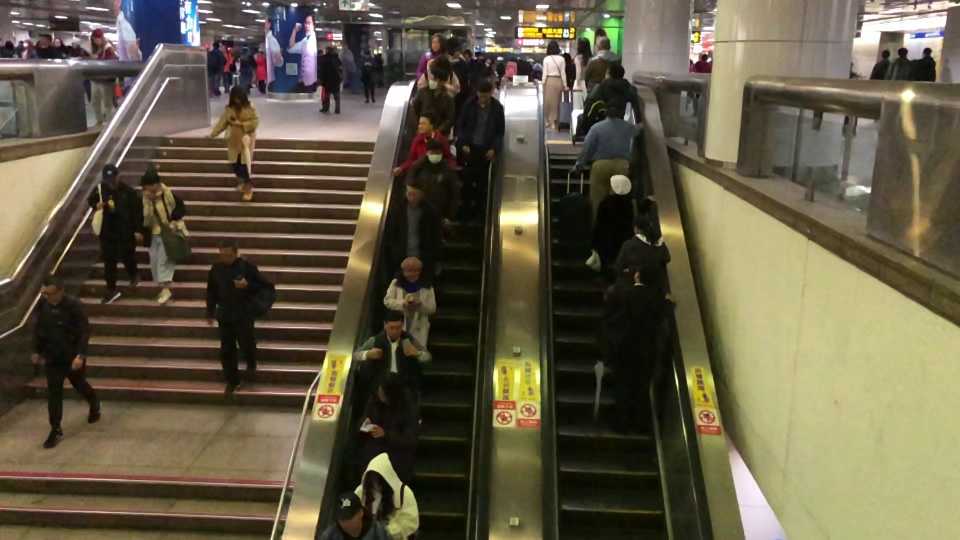person_head: (361, 452, 394, 495), (333, 491, 364, 533), (375, 369, 405, 408), (399, 252, 424, 286), (382, 307, 405, 342), (632, 261, 660, 289), (402, 177, 427, 207), (40, 275, 65, 304), (606, 173, 633, 197), (631, 213, 654, 239), (430, 55, 453, 80), (424, 138, 446, 163), (140, 170, 162, 193), (425, 68, 448, 90), (217, 240, 238, 264), (475, 80, 495, 105), (603, 97, 623, 120), (602, 63, 627, 81), (417, 112, 437, 134), (102, 163, 119, 188), (427, 34, 447, 55), (228, 85, 248, 105), (594, 36, 611, 53), (576, 37, 590, 55), (546, 39, 560, 56), (40, 34, 53, 45), (922, 45, 933, 58), (898, 46, 908, 59), (880, 48, 891, 59), (71, 36, 80, 49), (54, 37, 63, 48), (362, 49, 372, 58), (325, 46, 336, 54), (701, 53, 709, 62), (211, 42, 220, 49)
person_vbox: (596, 263, 677, 431), (30, 275, 100, 449), (203, 239, 276, 392), (572, 97, 644, 229), (87, 164, 144, 304), (354, 372, 421, 485), (353, 308, 432, 395), (590, 174, 657, 268), (206, 86, 259, 200), (458, 80, 505, 206), (141, 171, 185, 304), (353, 452, 420, 539), (381, 256, 437, 355), (393, 178, 441, 287), (399, 140, 456, 226), (392, 111, 456, 176), (612, 217, 671, 285), (316, 490, 393, 540), (417, 56, 460, 140), (582, 63, 631, 128), (411, 68, 456, 136), (542, 39, 569, 130), (583, 38, 622, 94), (317, 46, 342, 115), (416, 33, 449, 81), (572, 37, 594, 109), (69, 37, 91, 103), (358, 49, 378, 104), (206, 43, 226, 96), (906, 47, 936, 82), (885, 47, 912, 80), (869, 49, 891, 79), (38, 34, 62, 58), (693, 53, 711, 72)
